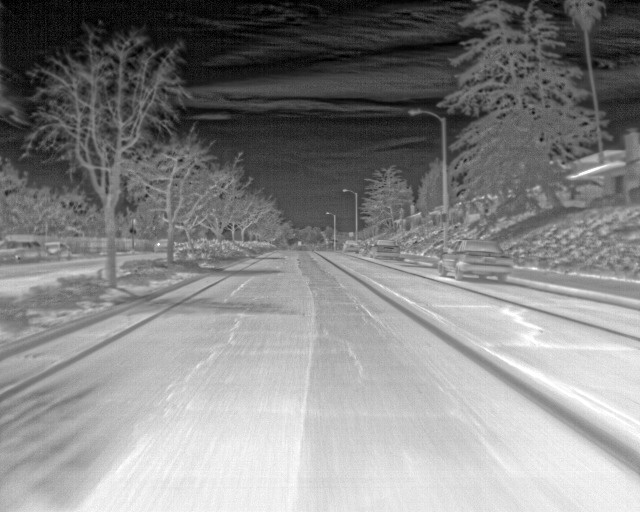vehicle: (437, 238, 512, 282), (367, 237, 399, 263), (345, 238, 358, 253)
